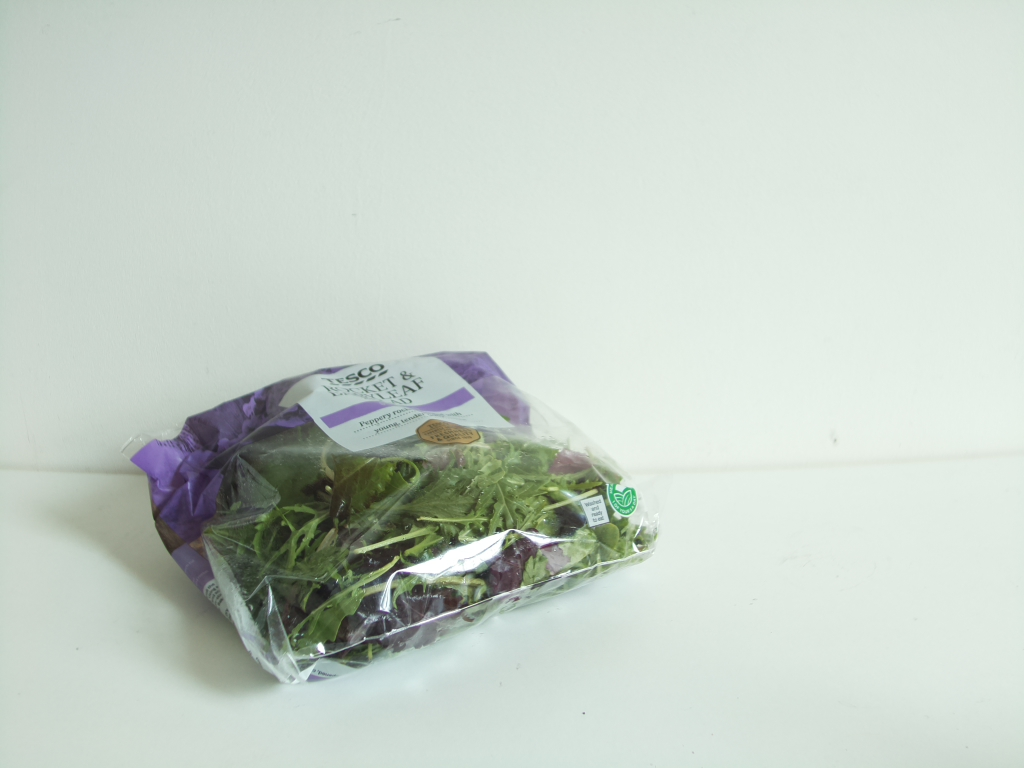salad: (133, 349, 666, 684)
